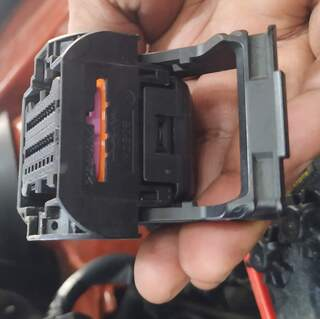connector: (17, 32, 239, 241)
